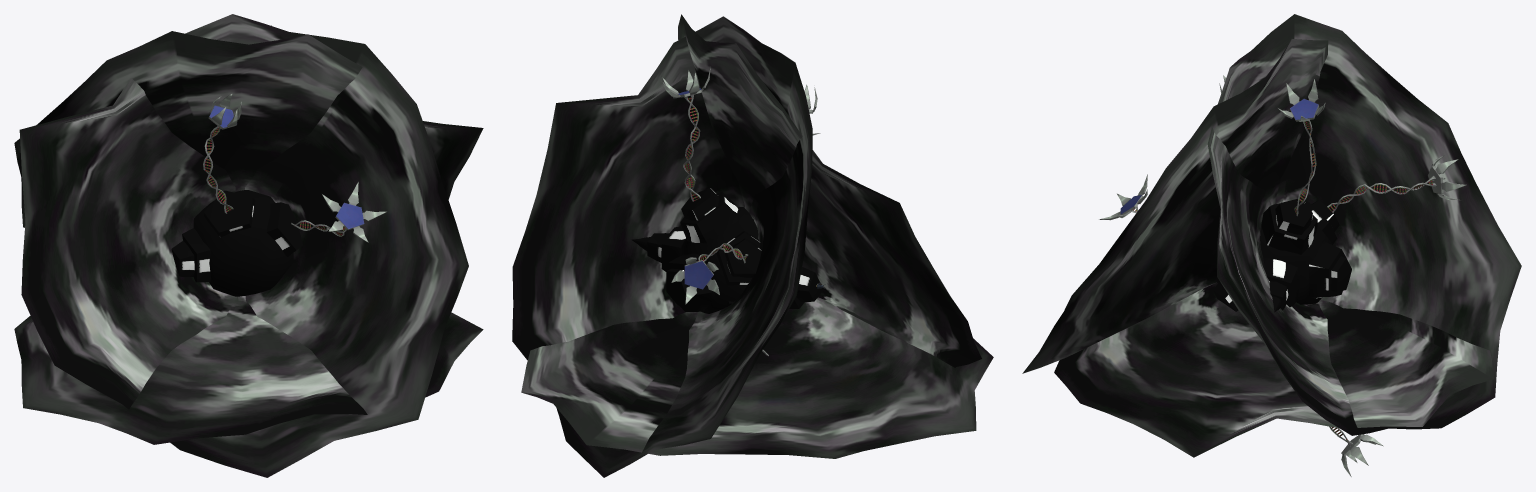
3 views of the same model, side by side, from view 1: azimuth 30°, elevation 25°; view 2: azimuth 150°, elevation 25°; view 3: azimuth 270°, elevation 25° (orthographic). The views are drawn at different scales.
Visible parts, largest first — view 1: apocalymon_origin; view 2: apocalymon_origin; view 3: apocalymon_origin.
Part boxes in pixels (left/top/right/bottom): apocalymon_origin: left=14, top=14, right=483, bottom=477; apocalymon_origin: left=512, top=14, right=993, bottom=477; apocalymon_origin: left=1022, top=14, right=1521, bottom=476.
Size of the model in its own units: 1140 by 994 by 1155.
Materials: 3 (3 with a texture image).
